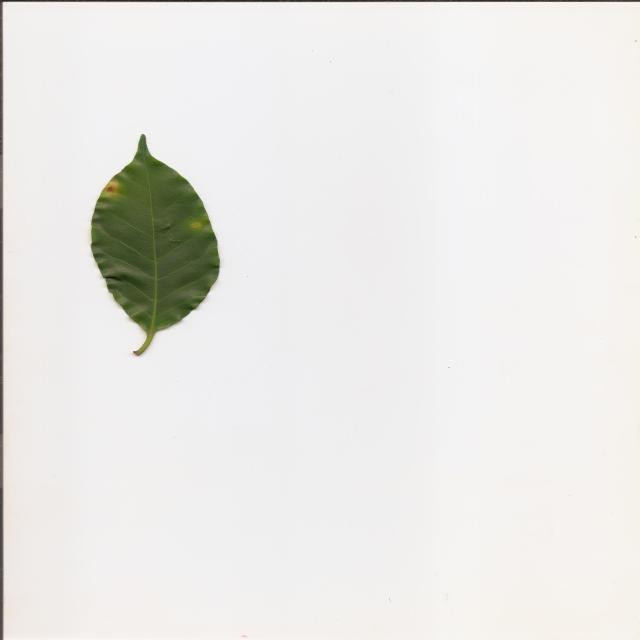Enfermedad-Roya: (90, 137, 222, 359)
